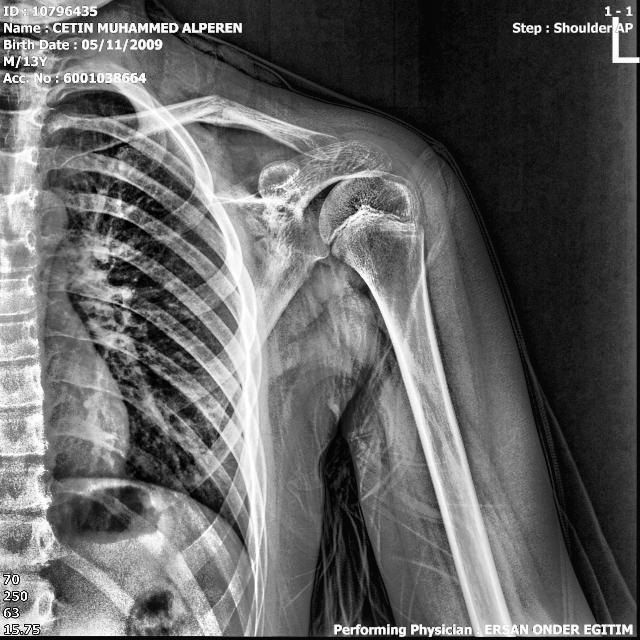Fracture: (175, 80, 256, 139)
